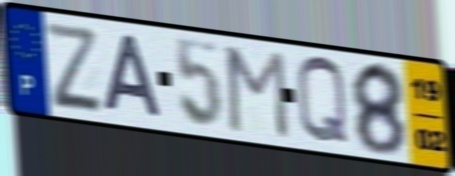5: (169, 38, 227, 132)
8: (348, 59, 411, 158)
A: (101, 32, 165, 123)
M: (225, 44, 292, 142)
Q: (293, 52, 352, 149)
Z: (41, 18, 106, 112)
